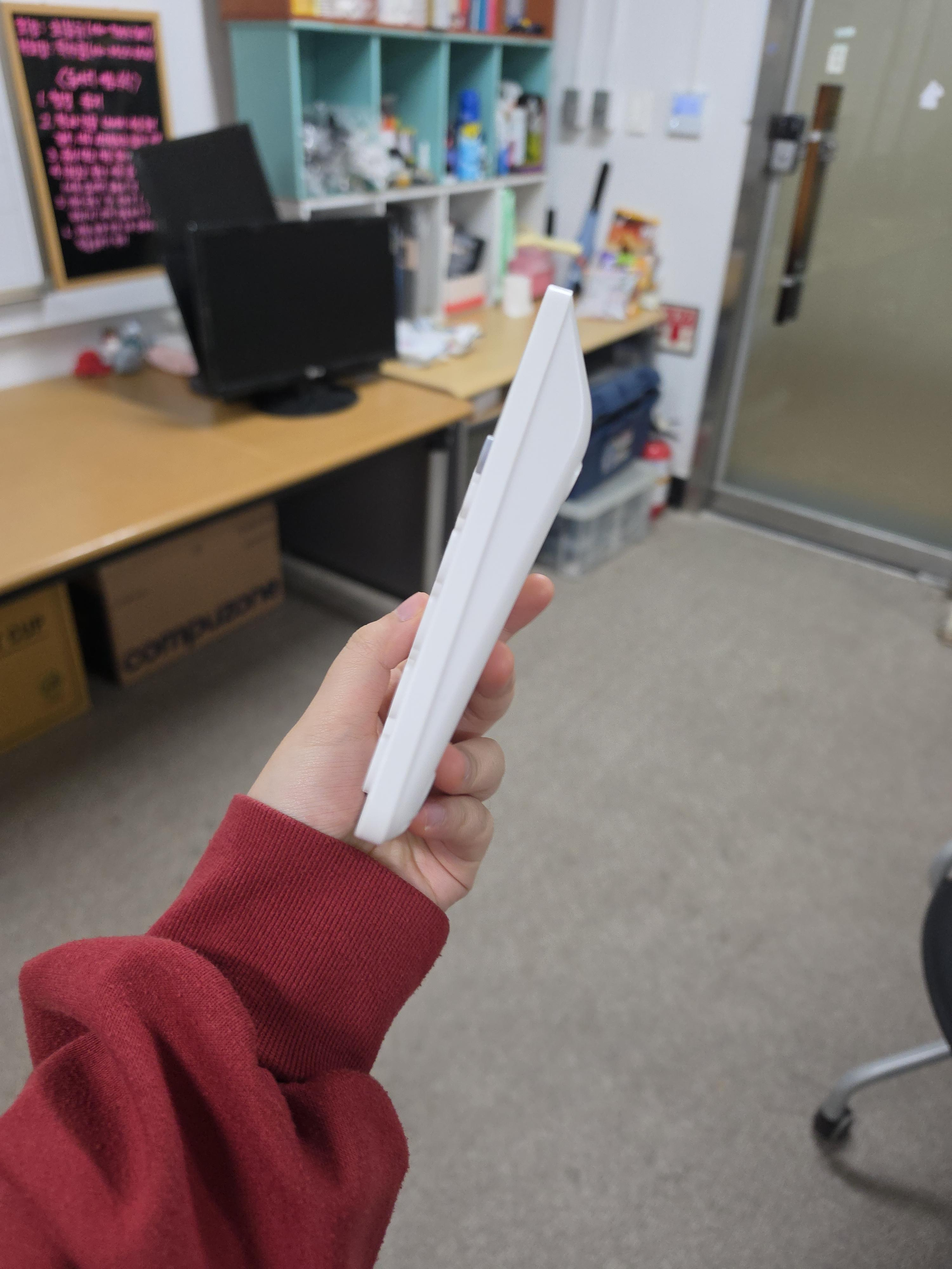calculator: (354, 284, 592, 846)
